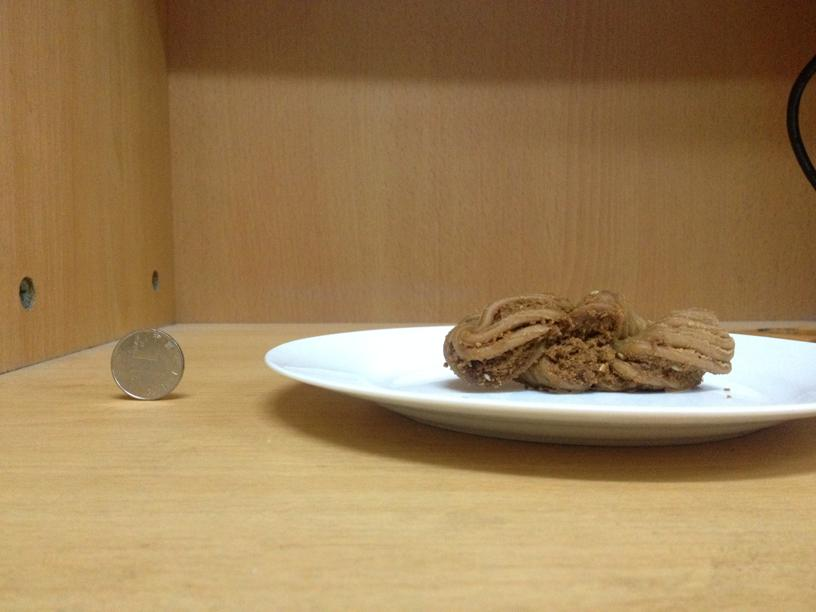coin: (112, 328, 183, 400)
fired_dough_twist: (437, 294, 730, 394)
